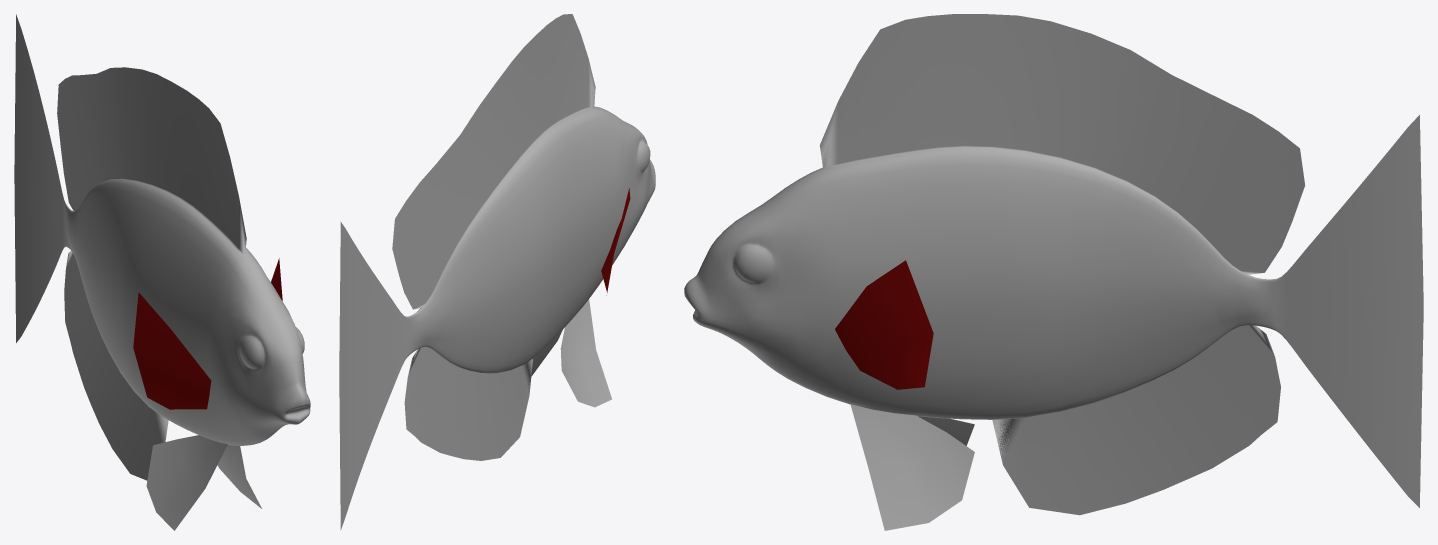
The model's file is Siganidae_A.fbx.
3 views of the same model, side by side, from view 1: azimuth 30°, elevation 25°; view 2: azimuth 150°, elevation 25°; view 3: azimuth 270°, elevation 25° (orthographic). The views are drawn at different scales.
Visible parts, largest first — view 1: Siganidae_A_LOD0; view 2: Siganidae_A_LOD0; view 3: Siganidae_A_LOD0.
Part boxes in pixels (x1,y1,x2,y2): Siganidae_A_LOD0: (14, 14, 310, 530); Siganidae_A_LOD0: (339, 14, 655, 530); Siganidae_A_LOD0: (684, 14, 1423, 530).
Size of what is drawn, in the model's own units: 0.2711 by 0.7757 by 1.03.
